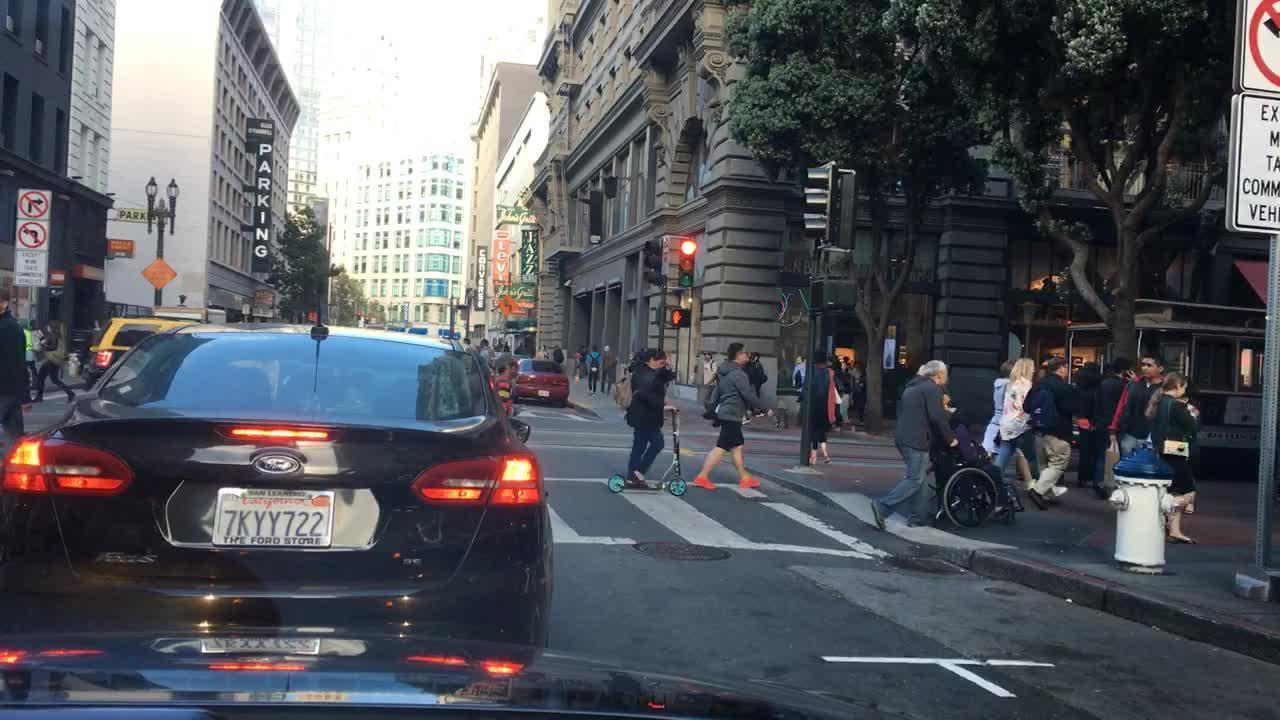ford: (233, 443, 319, 489)
